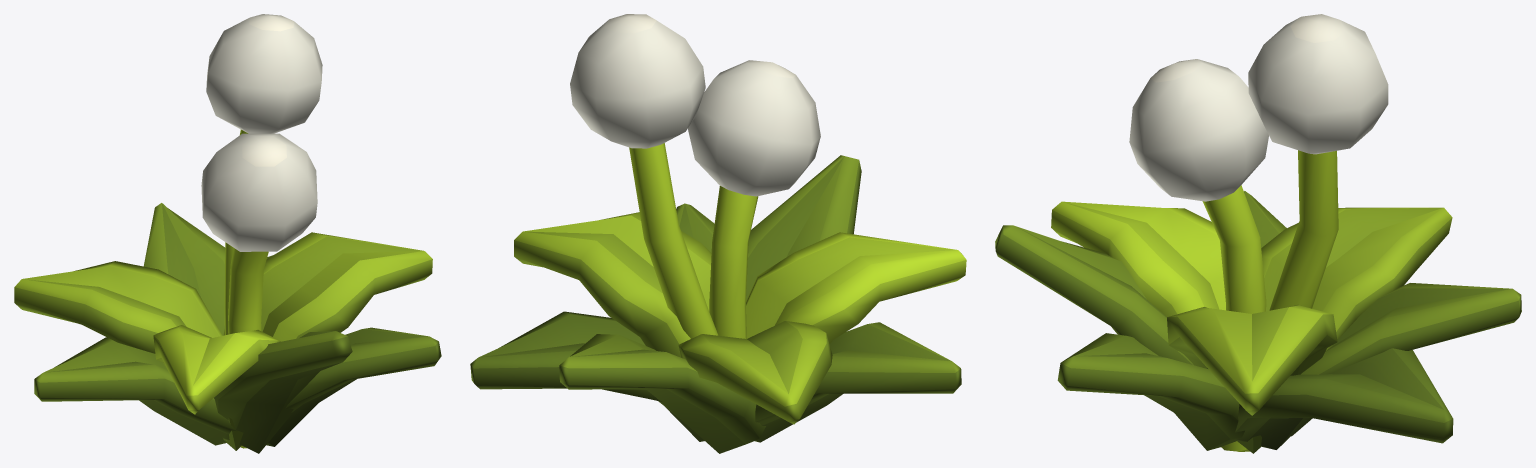
The model's file is dandelion_double_balls_LOD_group.fbx.
3 renders of one model, left to right at view 1: azimuth 30°, elevation 25°; view 2: azimuth 150°, elevation 25°; view 3: azimuth 270°, elevation 25°, orthographic. The views are drawn at different scales.
Parts seen in each view (by area): view 1: dandelion_double_balls_LOD0; view 2: dandelion_double_balls_LOD0; view 3: dandelion_double_balls_LOD0.
Boxes of the visible parts, bbox=[...] form: dandelion_double_balls_LOD0: bbox=[14, 14, 441, 453]; dandelion_double_balls_LOD0: bbox=[470, 14, 966, 453]; dandelion_double_balls_LOD0: bbox=[995, 14, 1521, 453].
Size of what is drawn, in the model's own units: 107 by 100 by 104.
1 material, 1 textured.
